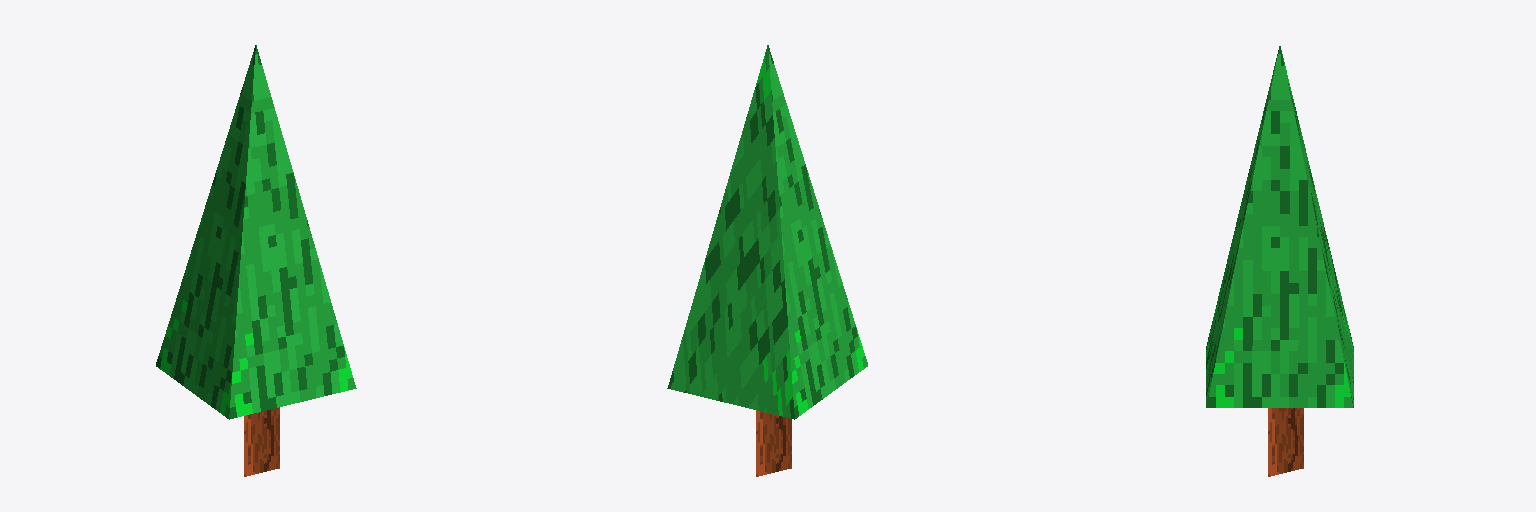
3 renders of one model, left to right at view 1: azimuth 30°, elevation 25°; view 2: azimuth 150°, elevation 25°; view 3: azimuth 270°, elevation 25°, orthographic.
Parts seen in each view (by area): view 1: Cube_Cube.001, Cone; view 2: Cube_Cube.001, Cone; view 3: Cube_Cube.001, Cone.
Boxes of the visible parts, x1=… form: Cube_Cube.001: x1=156, y1=45, x2=356, y2=419; Cone: x1=244, y1=407, x2=279, y2=476; Cube_Cube.001: x1=667, y1=45, x2=867, y2=419; Cone: x1=756, y1=410, x2=791, y2=476; Cube_Cube.001: x1=1206, y1=46, x2=1353, y2=407; Cone: x1=1268, y1=408, x2=1303, y2=476.
Bounding box in the file's own units: 2 × 6.37 × 2.
Materials: 2 (2 with a texture image).